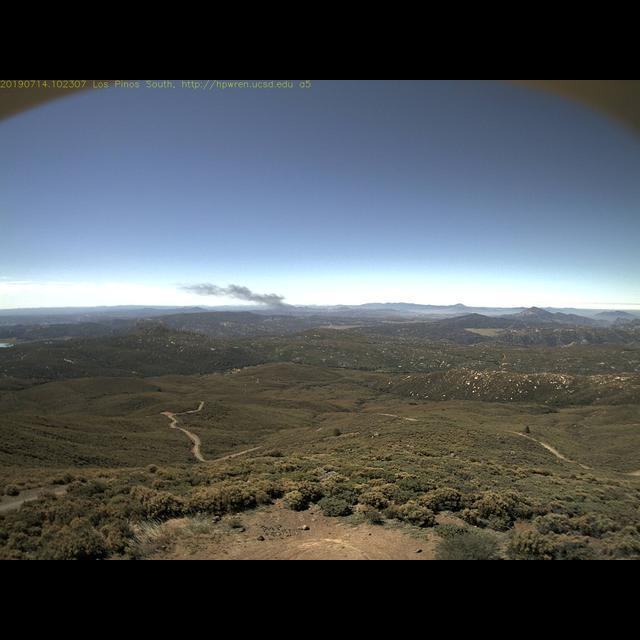Smoke: (173, 277, 299, 315)
